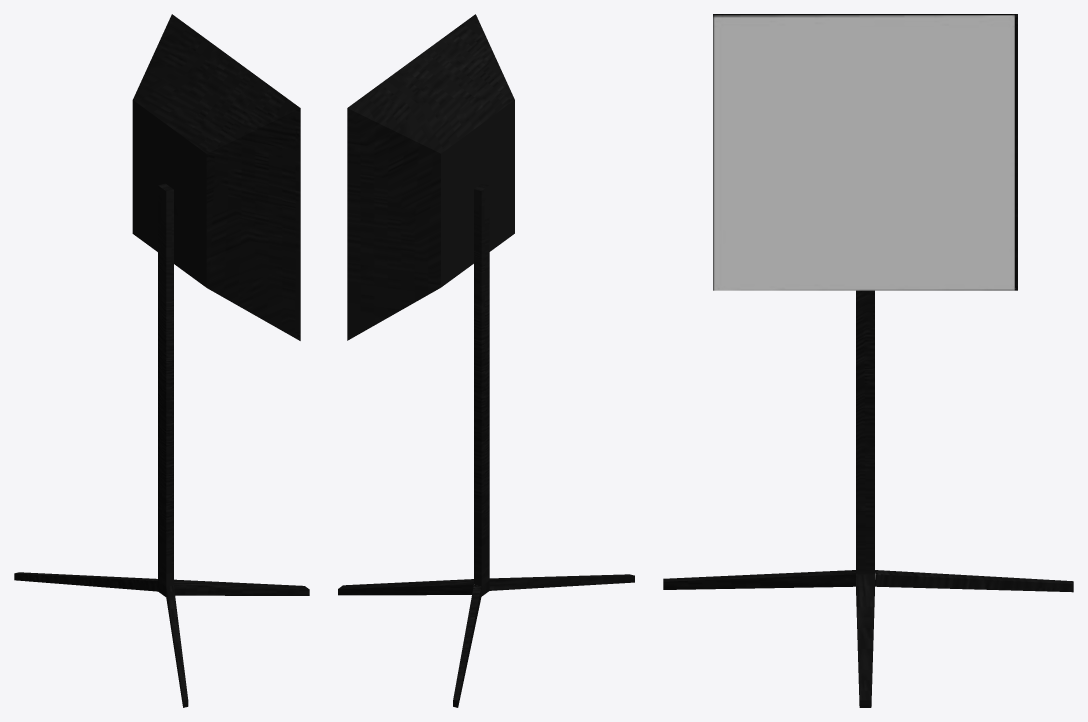
File: Lighting.fbx
3 views of the same model, side by side, from view 1: azimuth 30°, elevation 25°; view 2: azimuth 150°, elevation 25°; view 3: azimuth 270°, elevation 25° (orthographic). The views are drawn at different scales.
Parts seen in each view (by area): view 1: Cube; view 2: Cube; view 3: Cube.
Part boxes in pixels (x1,y1,x2,y2): Cube: (14, 14, 309, 707); Cube: (338, 14, 634, 707); Cube: (663, 14, 1073, 707).
Size of the model in its own units: 240 by 603 by 343.
